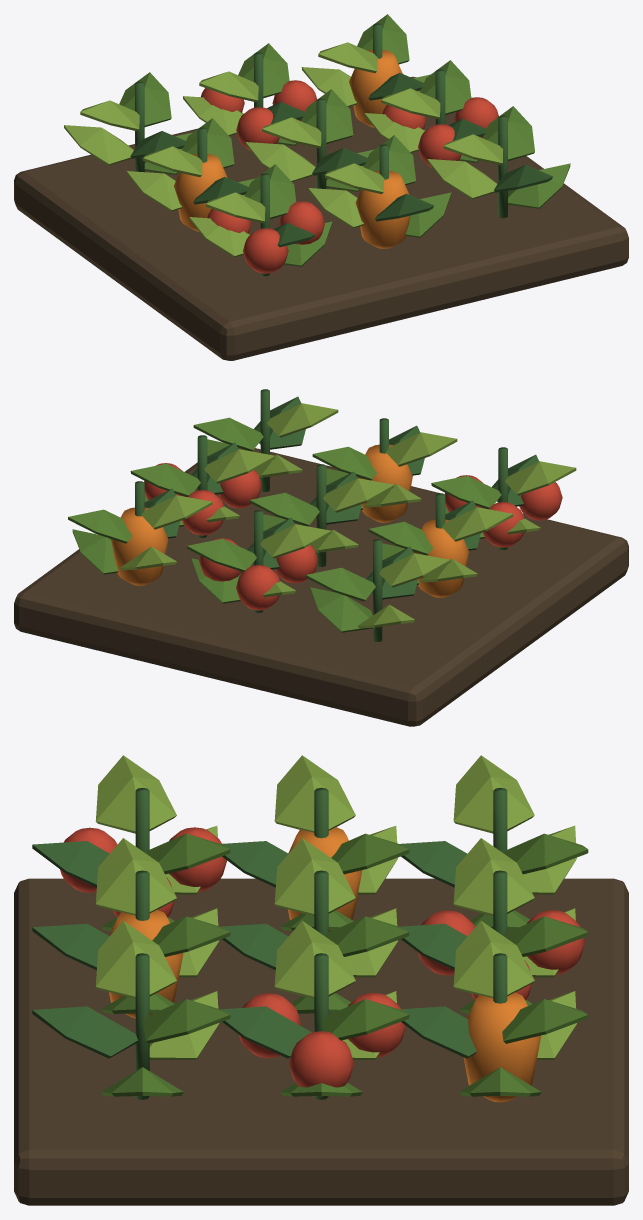
Rendered from 25_vegetable_crops.glb.
The picture shows the model from 3 angles, top to bottom: view 1: azimuth 30°, elevation 25°; view 2: azimuth 150°, elevation 25°; view 3: azimuth 270°, elevation 25°; orthographic projection. The views are drawn at different scales.
Visible parts, largest first — view 1: Vegetable soil bed, Carrot.001, Carrot.002, Carrot, Leaf.248, Leaf.268, Tomato.005, Leaf.258, Leaf.250, Leaf.260, Leaf.270, Leaf.265 (+46 smaller); view 2: Vegetable soil bed, Carrot.002, Carrot, Carrot.001, Leaf.247, Tomato.007, Leaf.261, Leaf.241, Leaf.246, Leaf.251, Leaf.256, Leaf.266 (+38 smaller); view 3: Vegetable soil bed, Carrot.002, Leaf.251, Leaf.271, Leaf.276, Leaf.266, Leaf.241, Leaf.261, Leaf.246, Leaf.281, Leaf.256, Leaf.269 (+47 smaller).
Part boxes in pixels (<box>): Vegetable soil bed: <box>14,76,628,360</box>; Carrot.001: <box>355,170,410,248</box>; Carrot.002: <box>349,50,402,127</box>; Carrot: <box>174,154,227,231</box>; Leaf.248: <box>64,125,133,165</box>; Leaf.268: <box>427,159,497,199</box>; Tomato.005: <box>243,228,288,273</box>; Leaf.258: <box>245,142,315,181</box>; Leaf.250: <box>119,72,171,126</box>; Leaf.260: <box>301,89,353,143</box>; Leaf.270: <box>483,106,534,160</box>; Leaf.265: <box>238,43,289,98</box>; Vegetable soil bed: <box>14,447,628,726</box>; Carrot.002: <box>111,507,168,585</box>; Carrot: <box>413,519,468,597</box>; Carrot.001: <box>357,444,412,522</box>; Leaf.247: <box>310,587,372,632</box>; Tomato.007: <box>236,565,279,610</box>; Leaf.261: <box>323,478,394,512</box>; Leaf.241: <box>505,461,576,495</box>; Leaf.246: <box>442,507,513,541</box>; Leaf.251: <box>379,553,450,587</box>; Leaf.256: <box>386,432,457,466</box>; Leaf.266: <box>260,524,331,558</box>; Vegetable soil bed: <box>14,878,628,1205</box>; Carrot.002: <box>463,992,541,1102</box>; Leaf.251: <box>453,755,534,833</box>; Leaf.271: <box>95,920,176,998</box>; Leaf.276: <box>274,920,355,998</box>; Leaf.266: <box>453,838,534,916</box>; Leaf.241: <box>95,755,176,833</box>; Leaf.261: <box>274,838,355,916</box>; Leaf.246: <box>274,755,355,832</box>; Leaf.281: <box>453,921,534,997</box>; Leaf.256: <box>95,838,176,915</box>; Leaf.269: <box>32,1006,138,1058</box>.
Bounding box in the file's own units: 1.2 × 0.388 × 1.1.
